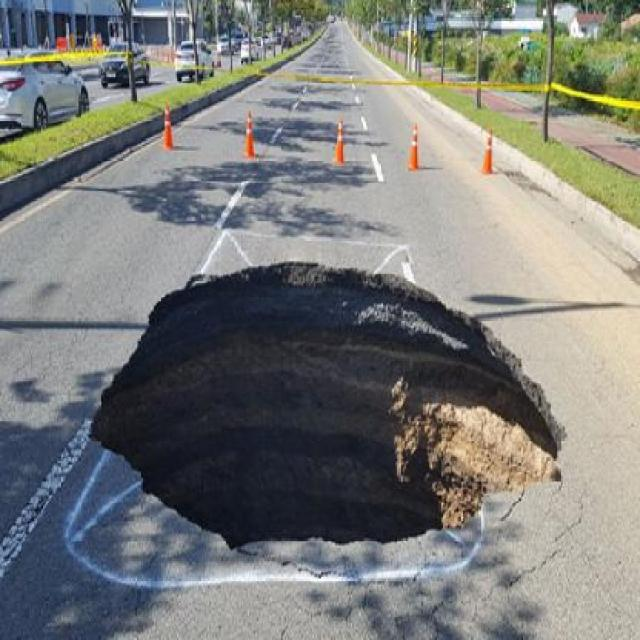Pothole: (86, 239, 580, 581)
